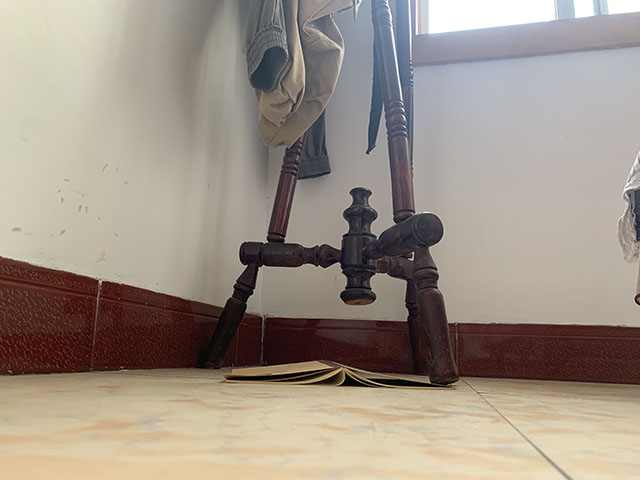book: (222, 356, 447, 390)
